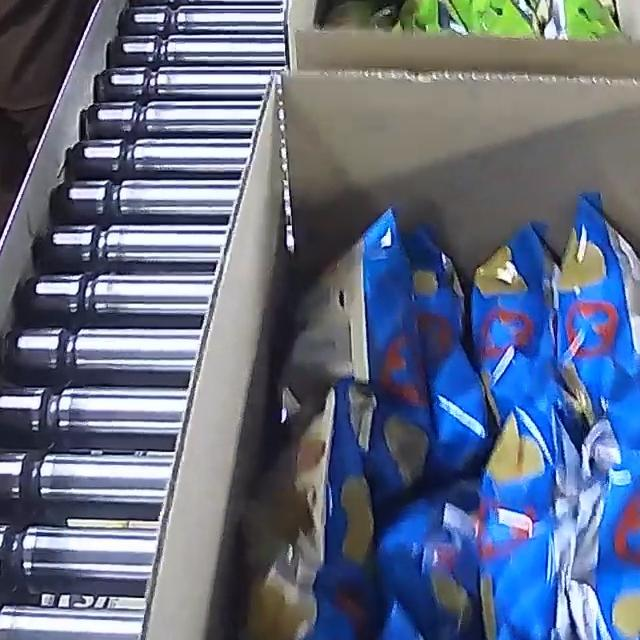paprika: (211, 189, 640, 640)
yogurt: (321, 0, 625, 42)
